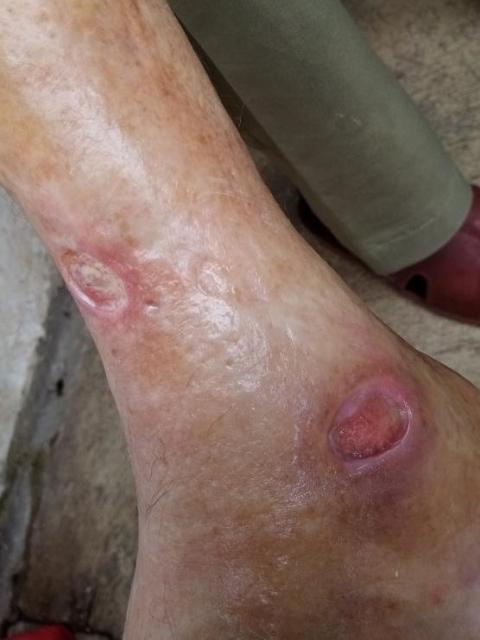wound: (330, 379, 415, 470), (59, 252, 129, 310)
